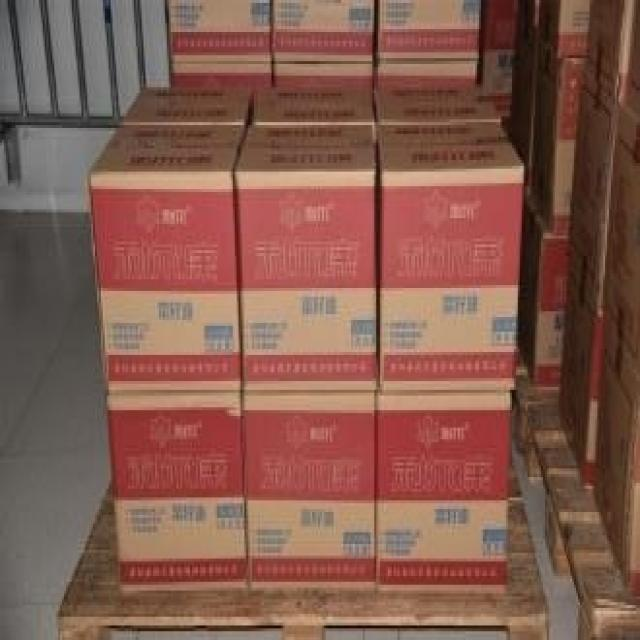box: (87, 125, 246, 390), (378, 125, 526, 390), (235, 122, 374, 393), (105, 390, 248, 596), (376, 393, 514, 596), (242, 390, 376, 593), (570, 67, 617, 317), (592, 361, 640, 602), (605, 102, 638, 407), (533, 41, 584, 236), (376, 0, 481, 90), (165, 0, 273, 87), (272, 0, 376, 90), (559, 294, 605, 492), (524, 201, 572, 390), (479, 0, 526, 119), (586, 0, 636, 108), (118, 87, 252, 125), (254, 84, 374, 125), (372, 90, 500, 128), (549, 0, 592, 58), (626, 3, 640, 111)
